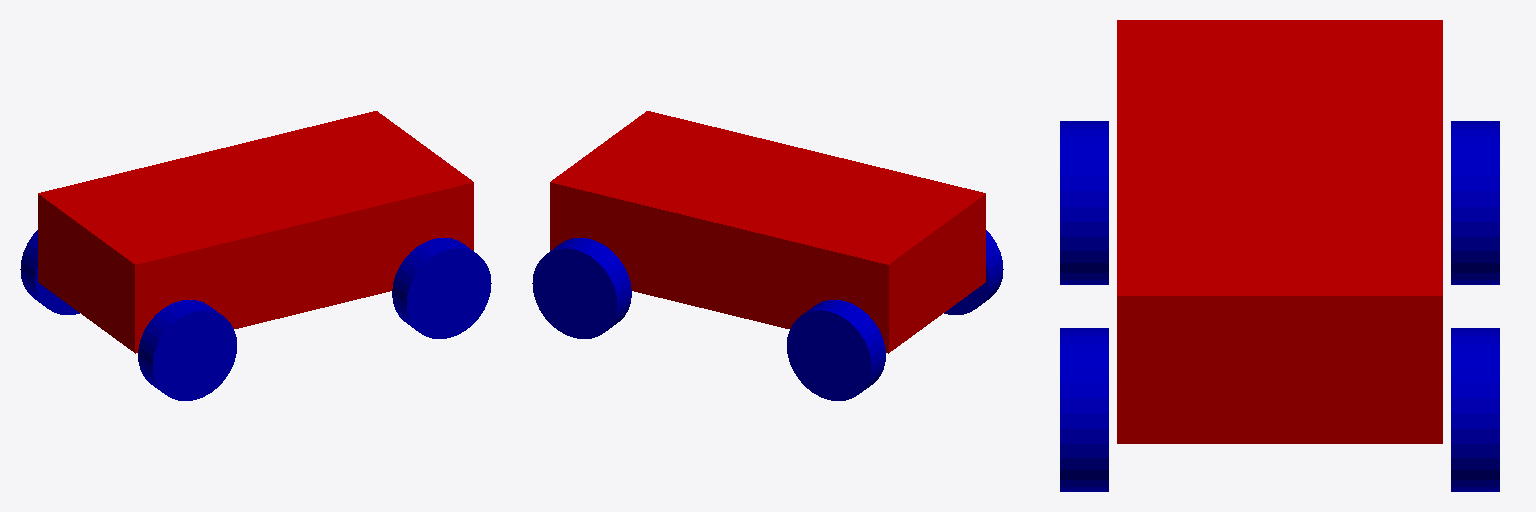
URDF robot description (simple_car):
<?xml version="1.0"?>
<robot name="simple_car">
  <!-- Materials -->
  <material name="red">
    <color rgba="0.8 0.0 0.0 1.0"/>
  </material>
  <material name="green">
    <color rgba="0.0 0.8 0.0 1.0"/>
  </material>
  <material name="blue">
    <color rgba="0.0 0.0 0.8 1.0"/>
  </material>

  <!-- Base footprint -->
  <link name="base_footprint"/>

  <joint name="base_footprint_joint" type="fixed">
    <origin xyz="0 0 0.05" rpy="0 0 0"/>
    <parent link="base_footprint"/>
    <child link="base_link"/>
  </joint>

  <!-- Base link (main body) -->
  <link name="base_link">
    <visual>
      <origin xyz="0 0 0" rpy="0 0 0"/>
      <geometry>
        <box size="0.4 0.2 0.1"/>
      </geometry>
      <material name="red"/>
    </visual>
    <collision>
      <origin xyz="0 0 0" rpy="0 0 0"/>
      <geometry>
        <box size="0.4 0.2 0.1"/>
      </geometry>
    </collision>
    <inertial>
      <mass value="5.0"/>
      <origin xyz="0 0 0" rpy="0 0 0"/>
      <inertia ixx="0.1" ixy="0" ixz="0" iyy="0.1" iyz="0" izz="0.1"/>
    </inertial>
  </link>

  <!-- Front left wheel -->
  <link name="front_left_wheel">
    <visual>
      <origin xyz="0 0 0" rpy="1.5708 0 0"/>
      <geometry>
        <cylinder radius="0.05" length="0.03"/>
      </geometry>
      <material name="blue"/>
    </visual>
    <collision>
      <origin xyz="0 0 0" rpy="1.5708 0 0"/>
      <geometry>
        <cylinder radius="0.05" length="0.03"/>
      </geometry>
    </collision>
    <inertial>
      <mass value="0.5"/>
      <origin xyz="0 0 0" rpy="0 0 0"/>
      <inertia ixx="0.01" ixy="0" ixz="0" iyy="0.01" iyz="0" izz="0.01"/>
    </inertial>
  </link>

  <joint name="front_left_wheel_joint" type="continuous">
    <origin xyz="0.15 0.12 -0.05" rpy="0 0 0"/>
    <parent link="base_link"/>
    <child link="front_left_wheel"/>
    <axis xyz="0 1 0"/>
  </joint>

  <!-- Front right wheel -->
  <link name="front_right_wheel">
    <visual>
      <origin xyz="0 0 0" rpy="1.5708 0 0"/>
      <geometry>
        <cylinder radius="0.05" length="0.03"/>
      </geometry>
      <material name="blue"/>
    </visual>
    <collision>
      <origin xyz="0 0 0" rpy="1.5708 0 0"/>
      <geometry>
        <cylinder radius="0.05" length="0.03"/>
      </geometry>
    </collision>
    <inertial>
      <mass value="0.5"/>
      <origin xyz="0 0 0" rpy="0 0 0"/>
      <inertia ixx="0.01" ixy="0" ixz="0" iyy="0.01" iyz="0" izz="0.01"/>
    </inertial>
  </link>

  <joint name="front_right_wheel_joint" type="continuous">
    <origin xyz="0.15 -0.12 -0.05" rpy="0 0 0"/>
    <parent link="base_link"/>
    <child link="front_right_wheel"/>
    <axis xyz="0 1 0"/>
  </joint>

  <!-- Rear left wheel -->
  <link name="rear_left_wheel">
    <visual>
      <origin xyz="0 0 0" rpy="1.5708 0 0"/>
      <geometry>
        <cylinder radius="0.05" length="0.03"/>
      </geometry>
      <material name="blue"/>
    </visual>
    <collision>
      <origin xyz="0 0 0" rpy="1.5708 0 0"/>
      <geometry>
        <cylinder radius="0.05" length="0.03"/>
      </geometry>
    </collision>
    <inertial>
      <mass value="0.5"/>
      <origin xyz="0 0 0" rpy="0 0 0"/>
      <inertia ixx="0.01" ixy="0" ixz="0" iyy="0.01" iyz="0" izz="0.01"/>
    </inertial>
  </link>

  <joint name="rear_left_wheel_joint" type="continuous">
    <origin xyz="-0.15 0.12 -0.05" rpy="0 0 0"/>
    <parent link="base_link"/>
    <child link="rear_left_wheel"/>
    <axis xyz="0 1 0"/>
  </joint>

  <!-- Rear right wheel -->
  <link name="rear_right_wheel">
    <visual>
      <origin xyz="0 0 0" rpy="1.5708 0 0"/>
      <geometry>
        <cylinder radius="0.05" length="0.03"/>
      </geometry>
      <material name="blue"/>
    </visual>
    <collision>
      <origin xyz="0 0 0" rpy="1.5708 0 0"/>
      <geometry>
        <cylinder radius="0.05" length="0.03"/>
      </geometry>
    </collision>
    <inertial>
      <mass value="0.5"/>
      <origin xyz="0 0 0" rpy="0 0 0"/>
      <inertia ixx="0.01" ixy="0" ixz="0" iyy="0.01" iyz="0" izz="0.01"/>
    </inertial>
  </link>

  <joint name="rear_right_wheel_joint" type="continuous">
    <origin xyz="-0.15 -0.12 -0.05" rpy="0 0 0"/>
    <parent link="base_link"/>
    <child link="rear_right_wheel"/>
    <axis xyz="0 1 0"/>
  </joint>

  <!-- Gazebo materials -->
  <gazebo reference="base_link">
    <material>Gazebo/Red</material>
  </gazebo>
  
  <gazebo reference="front_left_wheel">
    <material>Gazebo/Blue</material>
  </gazebo>
  
  <gazebo reference="front_right_wheel">
    <material>Gazebo/Blue</material>
  </gazebo>
  
  <gazebo reference="rear_left_wheel">
    <material>Gazebo/Blue</material>
  </gazebo>
  
  <gazebo reference="rear_right_wheel">
    <material>Gazebo/Blue</material>
  </gazebo>

</robot>

--- What the picture shows (computed from the rendered views, not written in the file) ---
3 views of the same robot in one strip: view 1: azimuth 30°, elevation 25°; view 2: azimuth 150°, elevation 25°; view 3: azimuth 270°, elevation 25° (orthographic).
Robot: simple_car — 6 links, 5 joints (4 continuous, 1 fixed); root link base_footprint; default pose: all joints at 0.
Visible links, largest first — view 1: base_link, front_right_wheel, rear_right_wheel, rear_left_wheel; view 2: base_link, front_left_wheel, rear_left_wheel, rear_right_wheel; view 3: base_link, front_left_wheel, front_right_wheel, rear_left_wheel, rear_right_wheel.
Link boxes in pixels (x1=…): base_link: x1=38, y1=111, x2=473, y2=353; front_right_wheel: x1=392, y1=238, x2=491, y2=338; rear_right_wheel: x1=138, y1=300, x2=236, y2=400; rear_left_wheel: x1=20, y1=230, x2=79, y2=314; base_link: x1=550, y1=111, x2=985, y2=353; front_left_wheel: x1=532, y1=238, x2=631, y2=338; rear_left_wheel: x1=787, y1=300, x2=885, y2=400; rear_right_wheel: x1=944, y1=230, x2=1003, y2=314; base_link: x1=1117, y1=20, x2=1442, y2=443; front_left_wheel: x1=1451, y1=328, x2=1499, y2=491; front_right_wheel: x1=1060, y1=328, x2=1108, y2=491; rear_left_wheel: x1=1451, y1=121, x2=1499, y2=284; rear_right_wheel: x1=1060, y1=121, x2=1108, y2=284.
Size in the robot's own frame: 0.4 by 0.27 by 0.15 metres.
Geometry: primitives only (box / cylinder / sphere), no mesh files.
